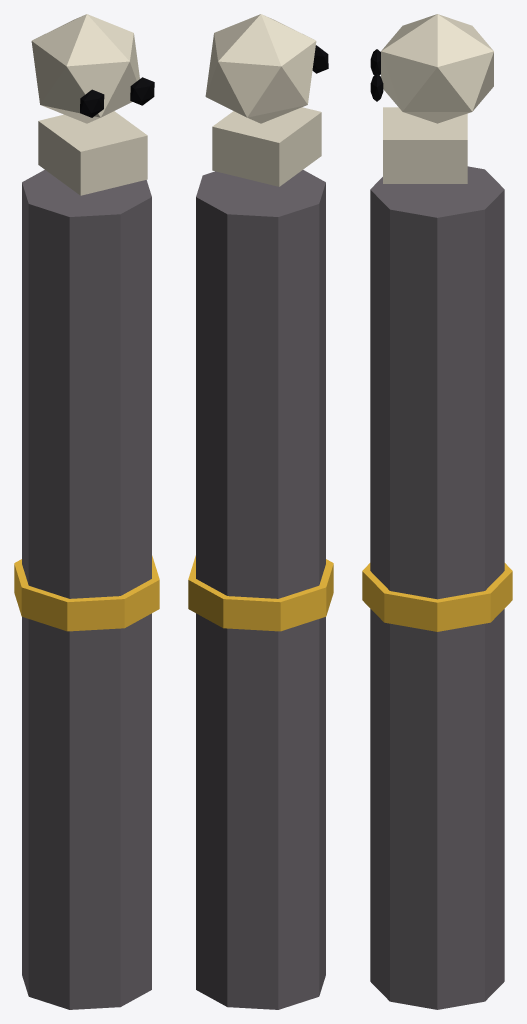
Rendered from Prop_OR_SkullTotem_15.glb.
3 renders of one model, left to right at view 1: azimuth 30°, elevation 25°; view 2: azimuth 150°, elevation 25°; view 3: azimuth 270°, elevation 25°, orthographic.
Visible parts, largest first — view 1: Prop_OR_SkullTotem_15; view 2: Prop_OR_SkullTotem_15; view 3: Prop_OR_SkullTotem_15.
Part boxes in pixels (<box>): Prop_OR_SkullTotem_15: <box>14,14,159,1009</box>; Prop_OR_SkullTotem_15: <box>188,14,333,1009</box>; Prop_OR_SkullTotem_15: <box>362,14,512,1009</box>.
Size of the model in its own units: 0.56 by 3.97 by 0.56.
